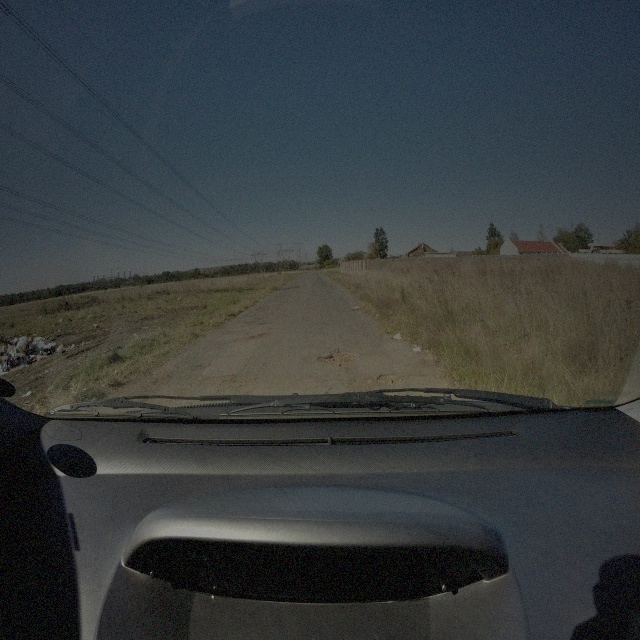pothole: (318, 344, 361, 366), (377, 372, 407, 388), (254, 317, 269, 328)
